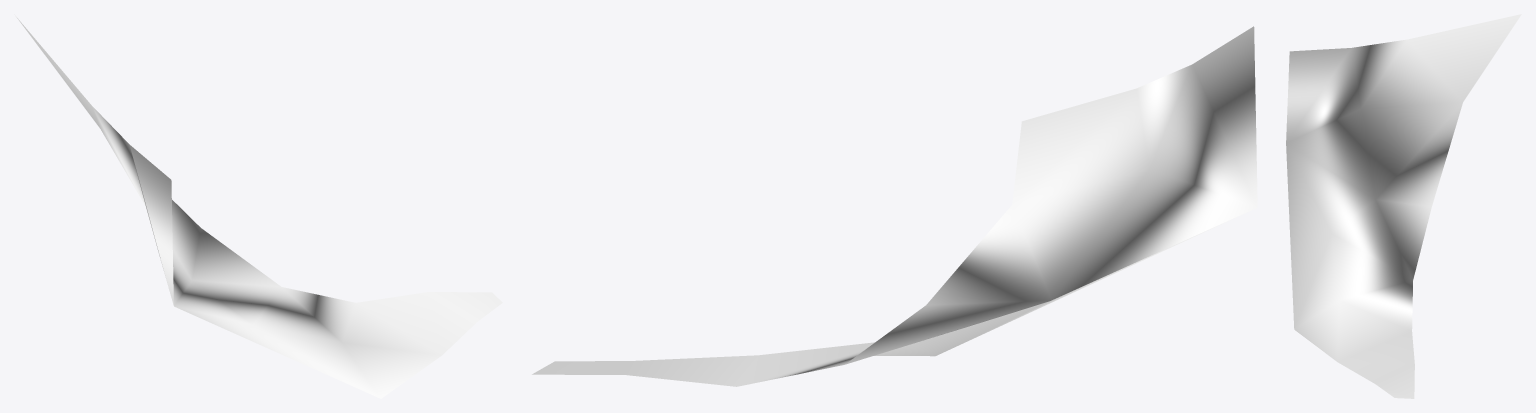
The model's file is SM_Env_SpiderWeb_02.fbx.
3 views of the same model, side by side, from view 1: azimuth 30°, elevation 25°; view 2: azimuth 150°, elevation 25°; view 3: azimuth 270°, elevation 25° (orthographic). The views are drawn at different scales.
Parts seen in each view (by area): view 1: SM_Env_SpiderWeb_02; view 2: SM_Env_SpiderWeb_02; view 3: SM_Env_SpiderWeb_02.
Part boxes in pixels (box(x1,y1,x2,y2)): SM_Env_SpiderWeb_02: box(16, 17, 502, 398); SM_Env_SpiderWeb_02: box(532, 26, 1257, 386); SM_Env_SpiderWeb_02: box(1286, 14, 1521, 398).
Size of the model in its own units: 465 by 355 by 318.
